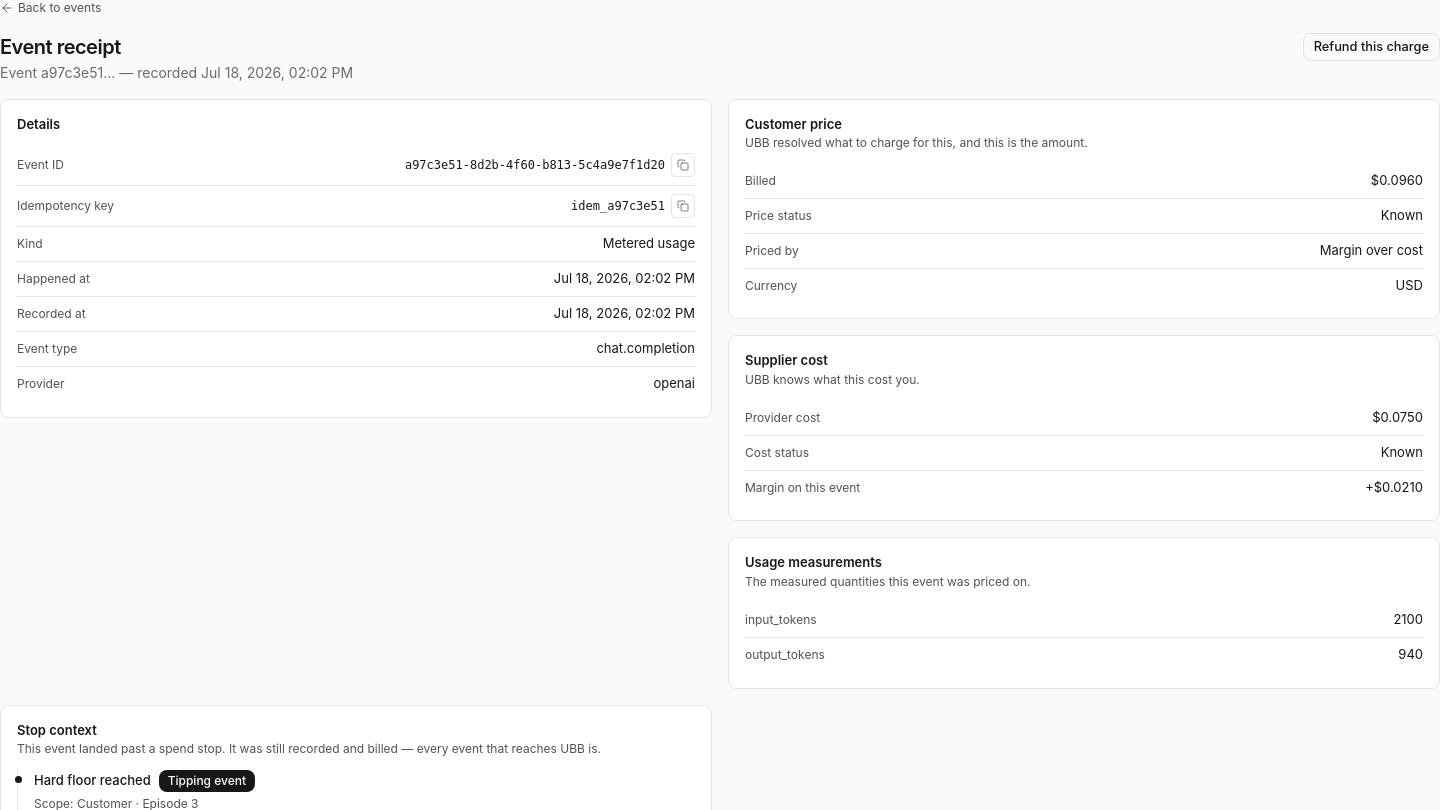
Scenario: EventDetailPage › shows the refund dialog with replay-safe copy and issues the refund
Click the button "Refund this charge" at (1371, 46), box [1303, 32, 1439, 60]
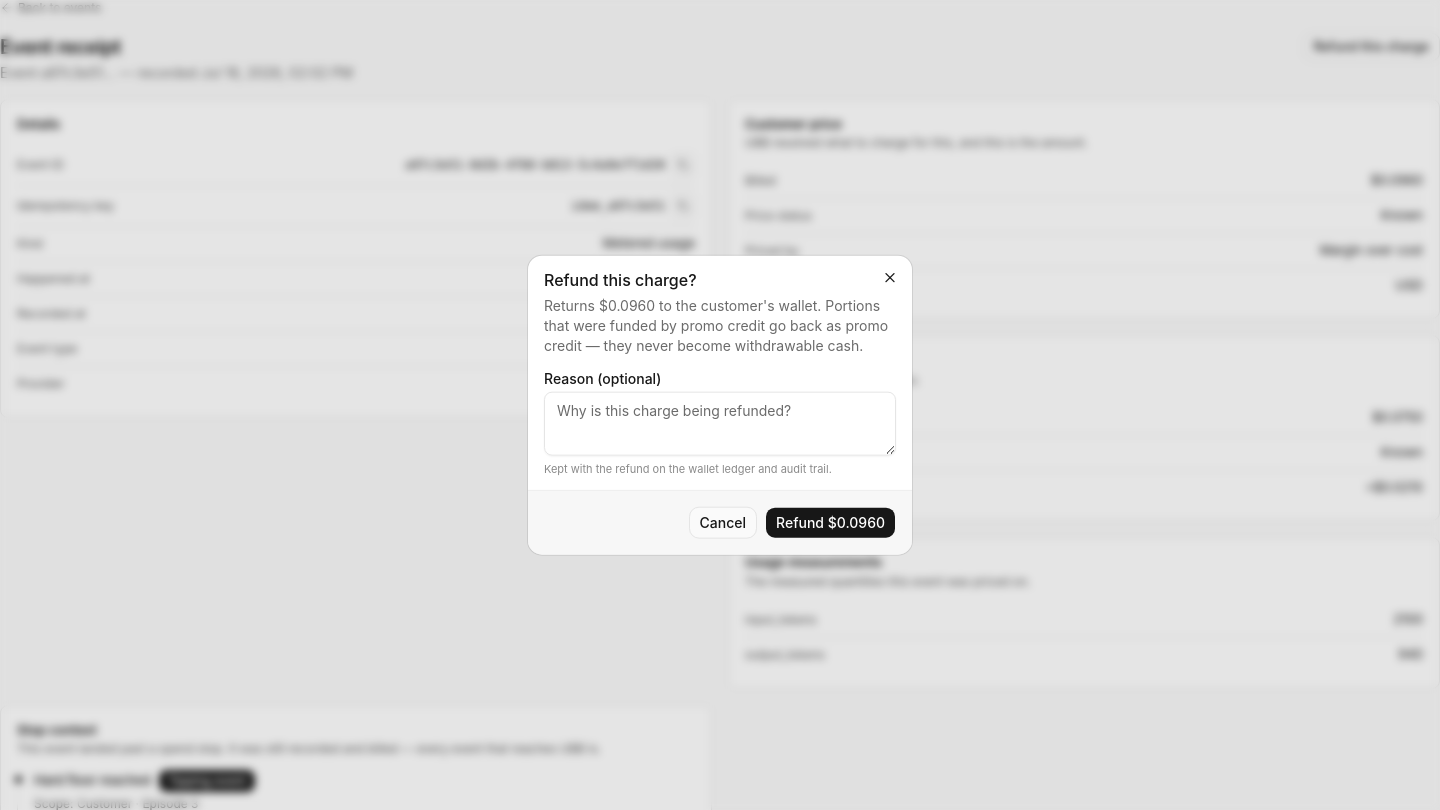
Expected: the heading "Refund this charge?" is shown, [544, 270, 697, 290]
Click the button "Refund $0.0960" at (831, 522), box [765, 506, 896, 538]
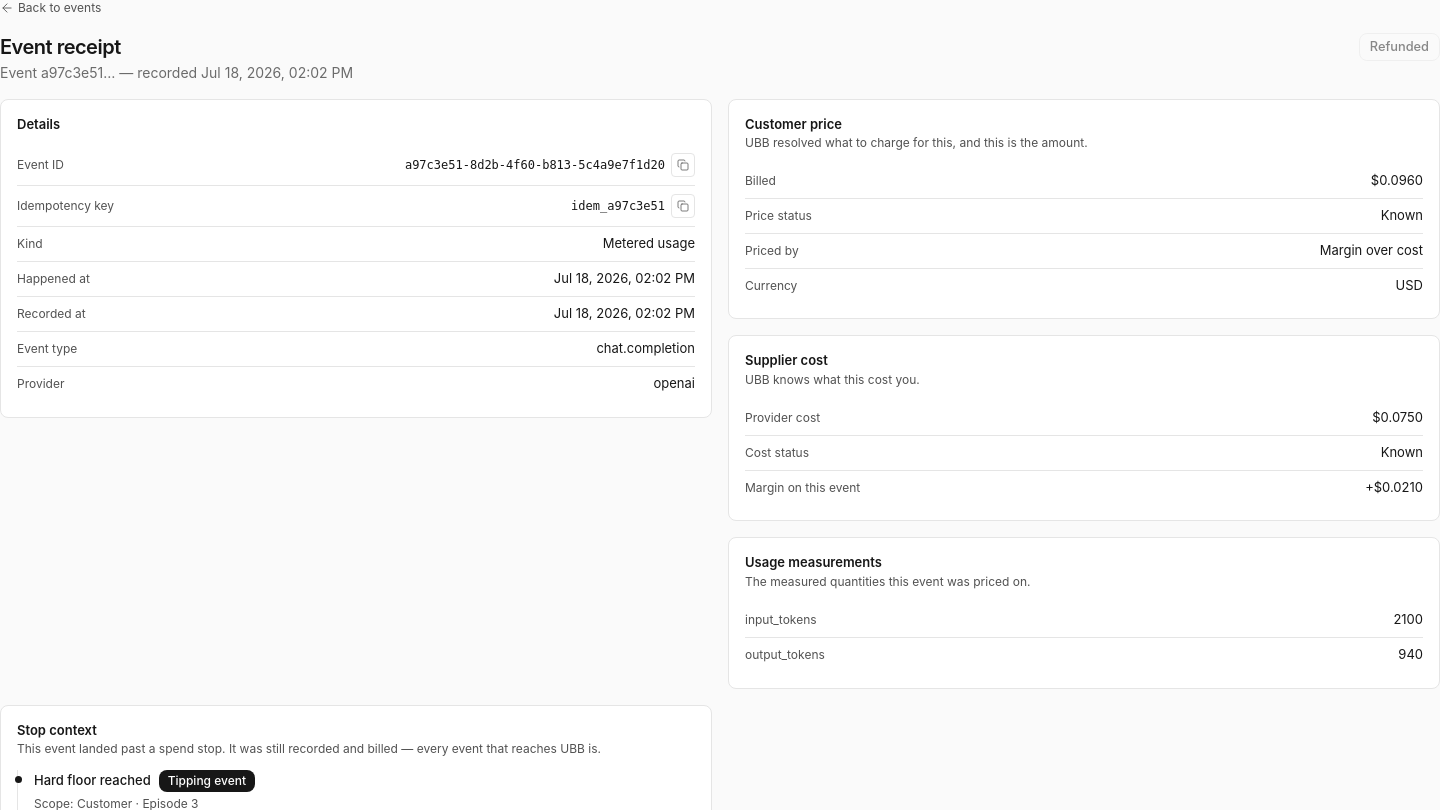
Expected: the button "Refunded" is shown, [1359, 32, 1439, 60]
